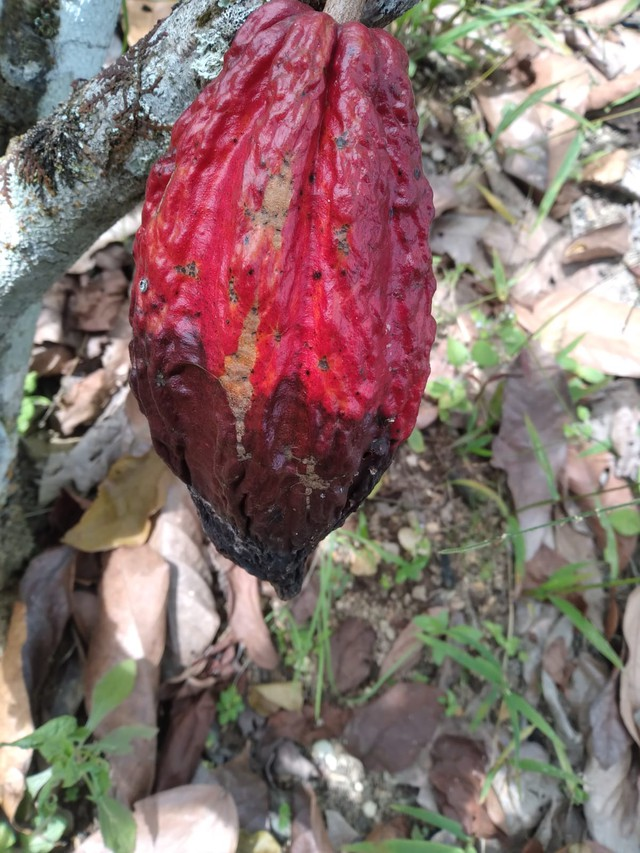phytophthora palmivora: (120, 1, 450, 606)
